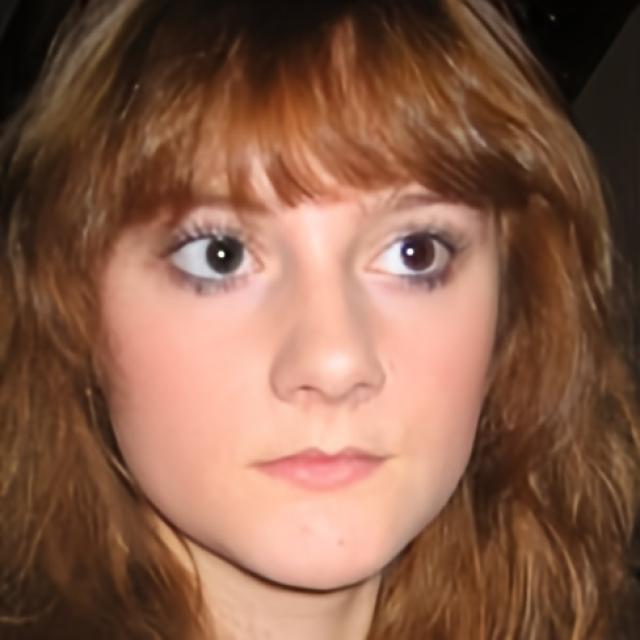neutral: (90, 95, 504, 594)
